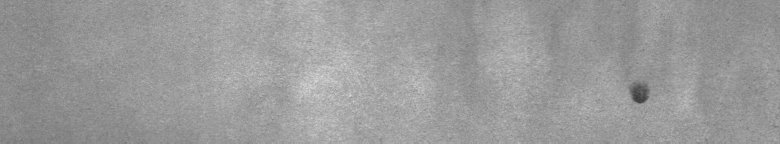fi: (624, 76, 664, 111)
